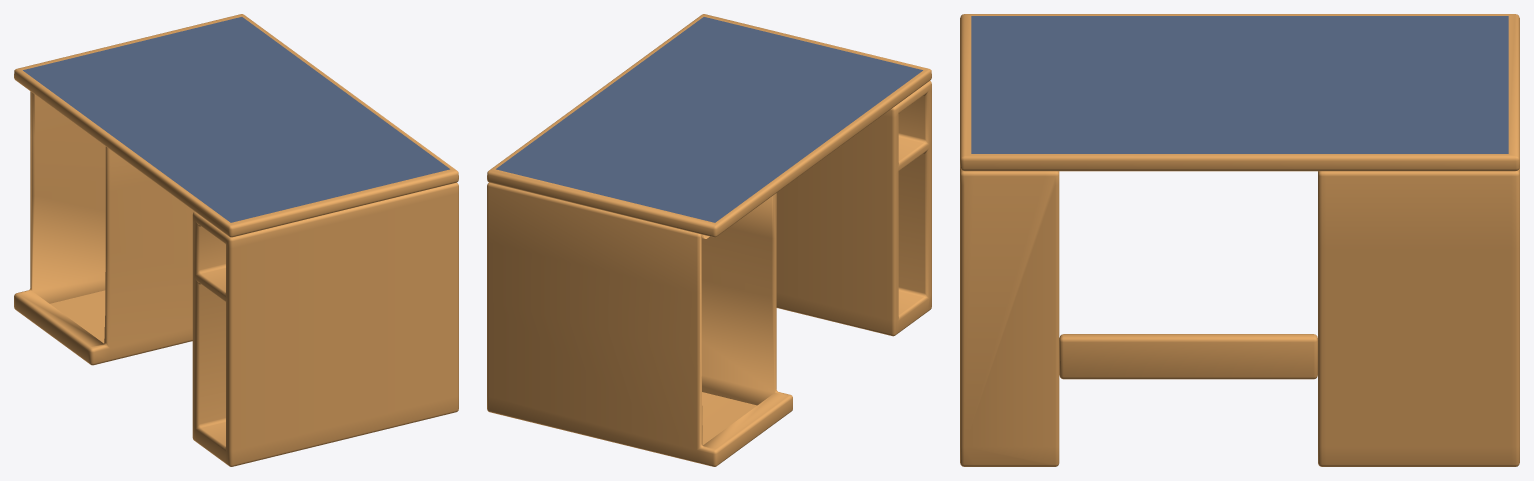
Rendered from torontoDesk.fbx.
3 renders of one model, left to right at view 1: azimuth 30°, elevation 25°; view 2: azimuth 150°, elevation 25°; view 3: azimuth 270°, elevation 25°, orthographic. The views are drawn at different scales.
Parts seen in each view (by area): view 1: torontoDesk; view 2: torontoDesk; view 3: torontoDesk.
Boxes of the visible parts, x1,y1,x2,y2 form: torontoDesk: (14, 14, 458, 466); torontoDesk: (487, 14, 931, 466); torontoDesk: (960, 14, 1519, 466).
Bounding box in the file's own units: 448 × 449 × 732.
